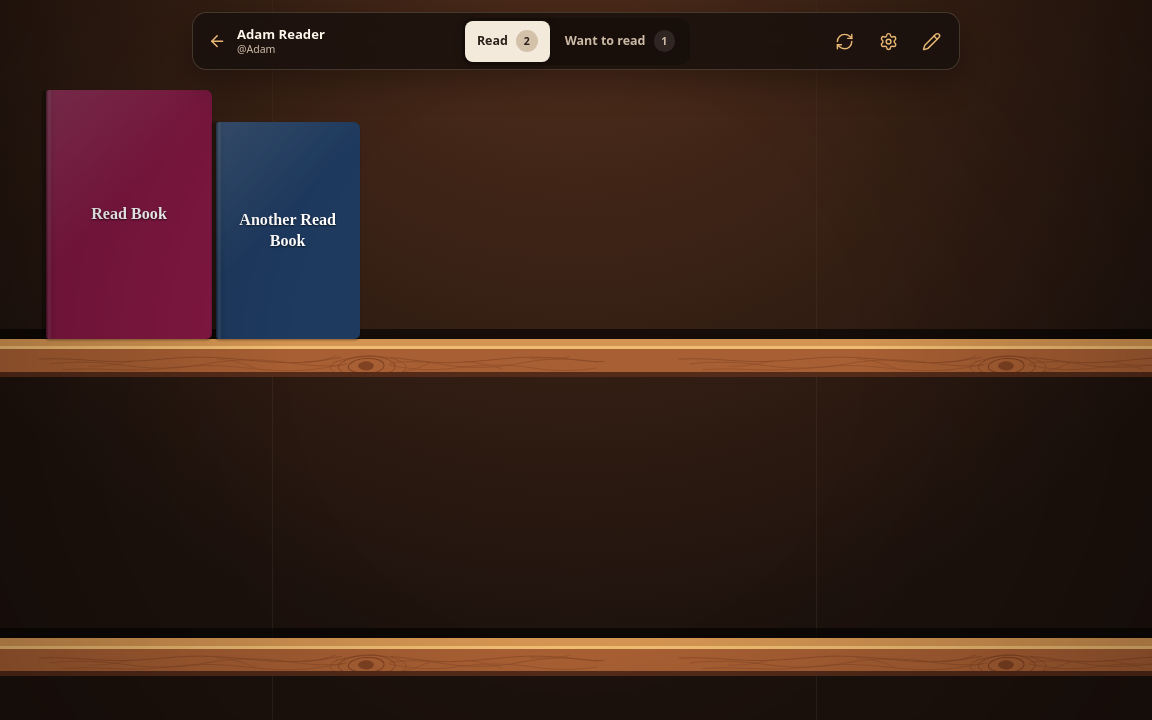
it: ShelfView › uses subtle icon actions and opens the configured theme settings
The width and height of the screenshot is (1152, 720).
Check: the button named "Refresh shelf" is empty, box top-left (825, 21), bottom-right (865, 62)
Click the button named "Shelf settings" at (888,41), box top-left (868, 21), bottom-right (909, 62)
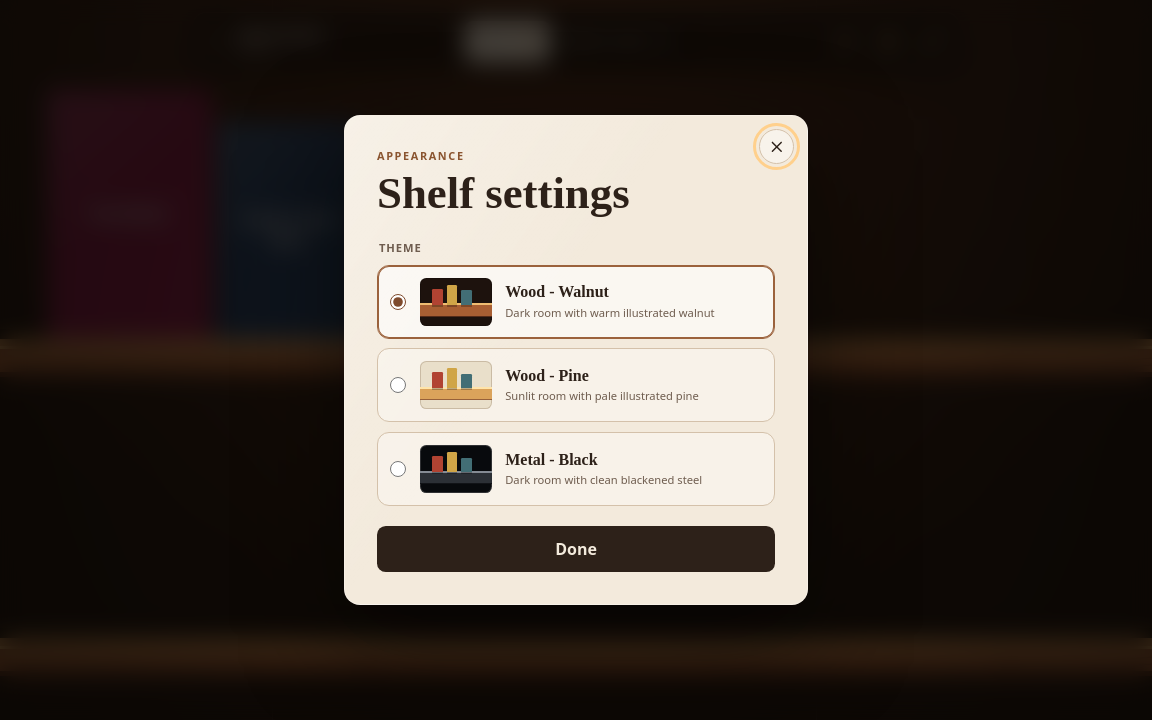
Check: the dialog "Shelf settings" is shown, box top-left (344, 115), bottom-right (808, 605)
Check: the radio button labelled "Wood - Walnut Dark room with warm illustrated walnut" is checked, box top-left (390, 294), bottom-right (406, 310)
Check: the radio button labelled "Wood - Pine Sunlit room with pale illustrated pine" is not checked
Click the radio button labelled "Wood - Pine Sunlit room with pale illustrated pine" at (398,385), box top-left (390, 377), bottom-right (406, 393)
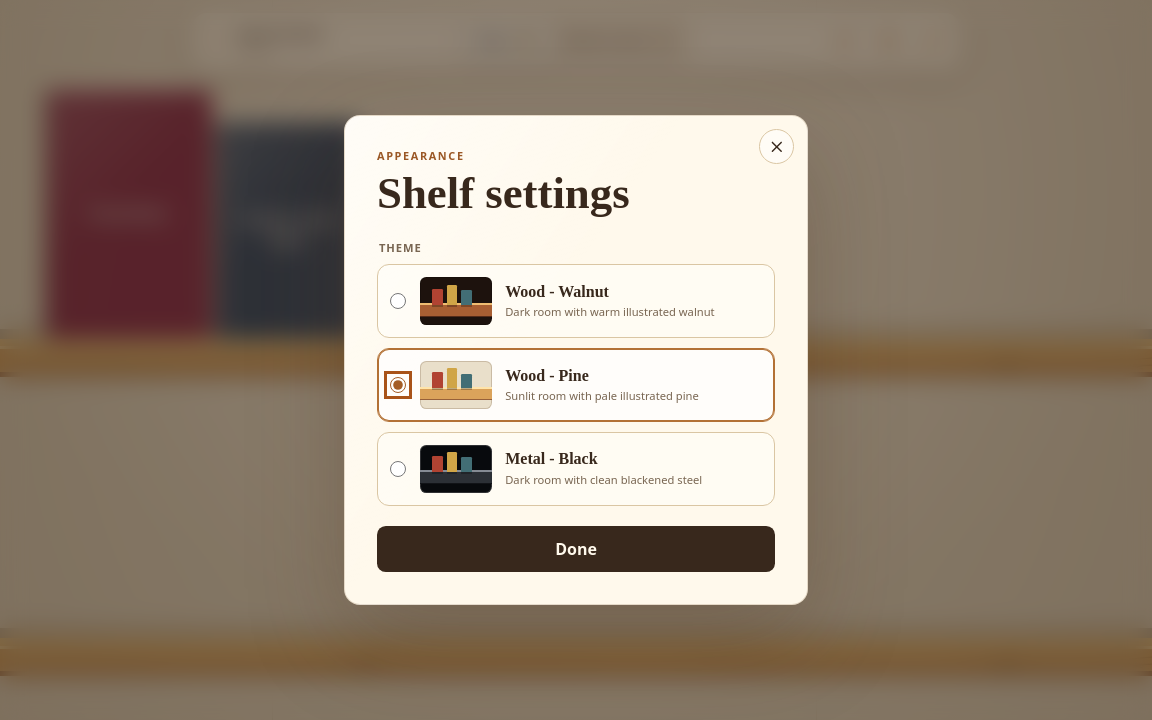
Check: the element named "Adam Reader's bookshelf" has attribute data-shelf-theme="pine"
Check: the radio button labelled "Wood - Pine Sunlit room with pale illustrated pine" is checked, box top-left (390, 377), bottom-right (406, 393)
Click the radio button labelled "Metal - Black Dark room with clean blackened steel" at (398,469), box top-left (390, 461), bottom-right (406, 477)
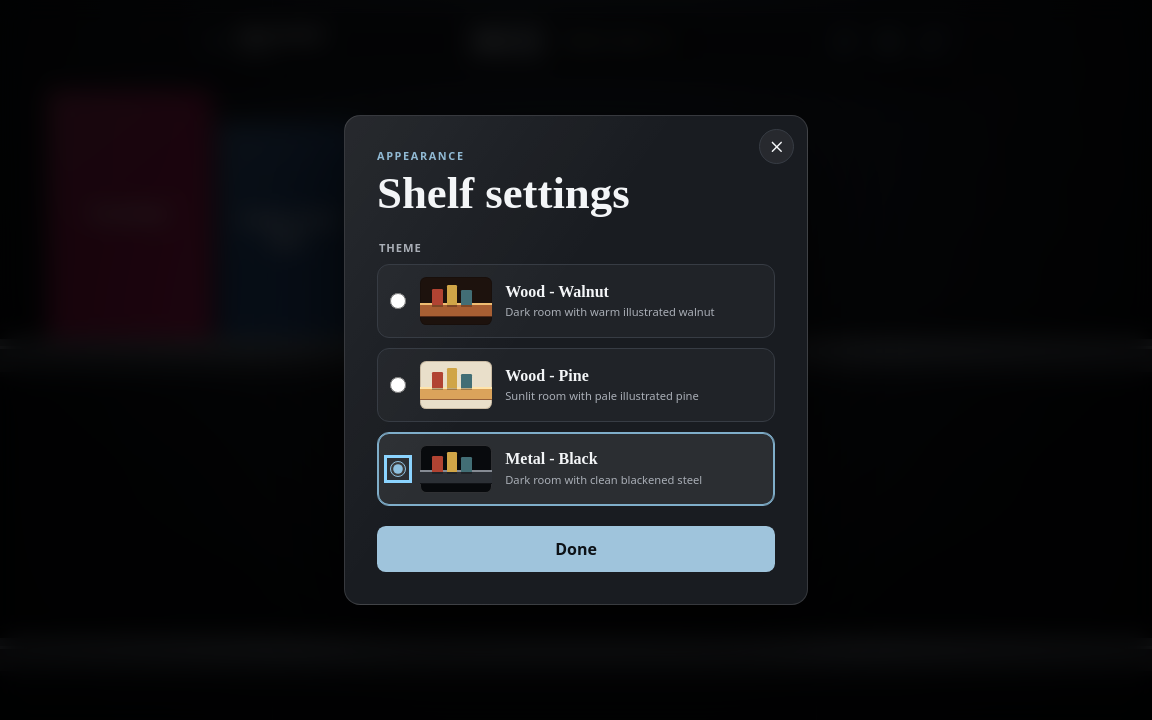
Check: the element named "Adam Reader's bookshelf" has attribute data-shelf-theme="metalBlack"
Check: the element named "Adam Reader's bookshelf" does not have attribute data-shelf-overlays
Check: the radio button labelled "Metal - Black Dark room with clean blackened steel" is checked, box top-left (390, 461), bottom-right (406, 477)
Press Escape
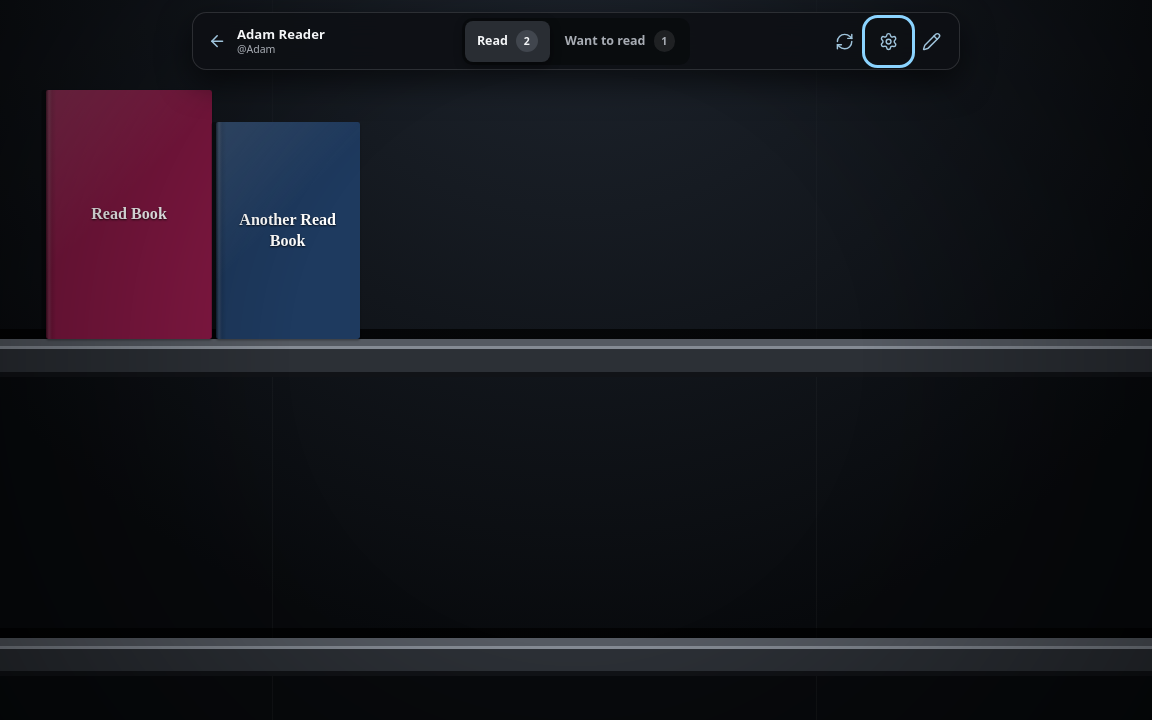
Check: the heading "Shelf settings" is gone
